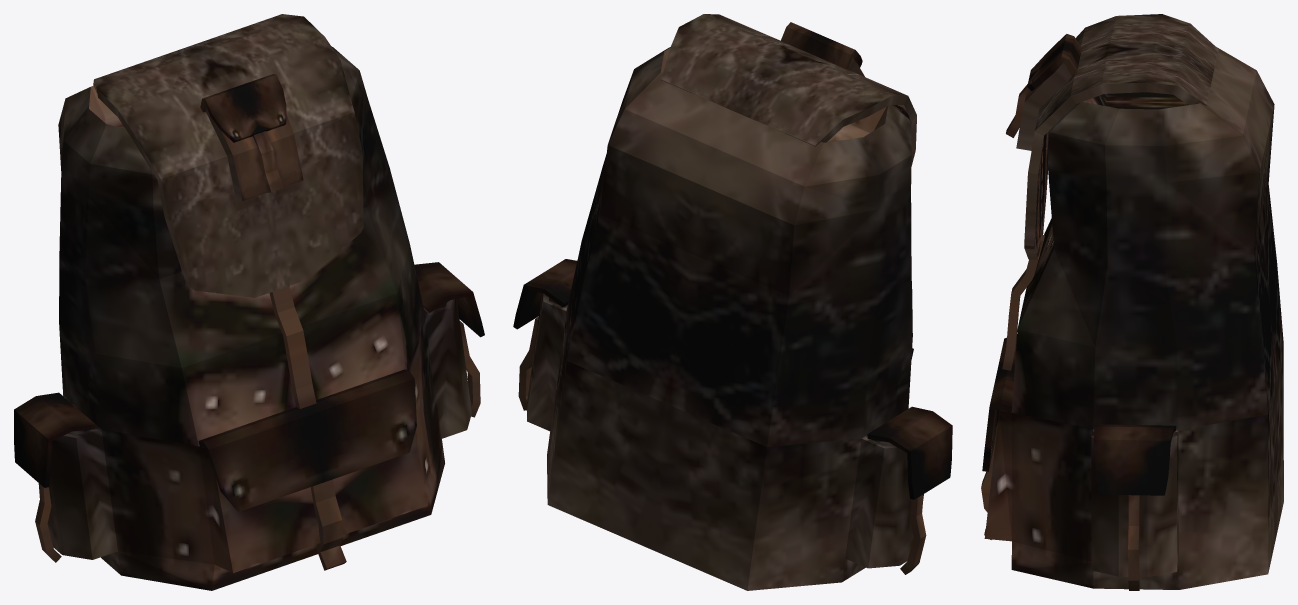
File: STATIC_PLECAK1.glb
The picture shows the model from 3 angles, left to right: view 1: azimuth 30°, elevation 25°; view 2: azimuth 150°, elevation 25°; view 3: azimuth 270°, elevation 25°; orthographic projection.
Visible parts, largest first — view 1: STATIC_PLECAK1; view 2: STATIC_PLECAK1; view 3: STATIC_PLECAK1.
Boxes of the visible parts, box(x1,y1,x2,y2) form: STATIC_PLECAK1: box(14, 14, 484, 590); STATIC_PLECAK1: box(513, 14, 952, 590); STATIC_PLECAK1: box(981, 14, 1283, 590).
Size of the model in its own units: 0.4167 by 0.4564 by 0.2528.
1 material, 1 textured.
